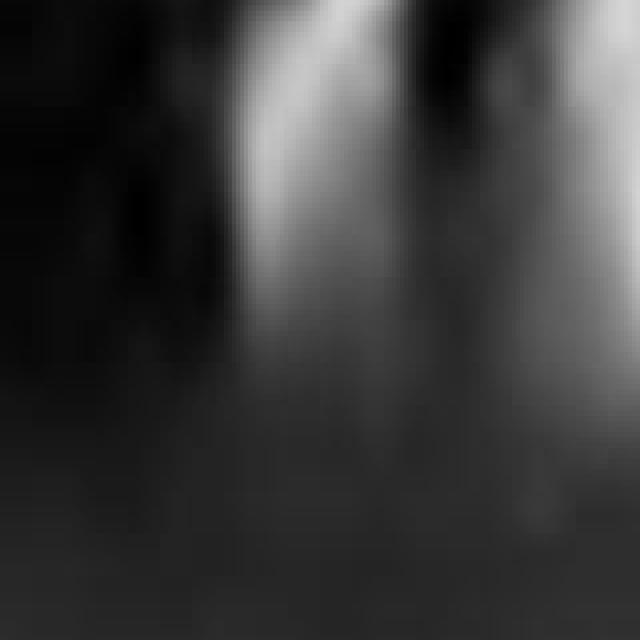person: (205, 1, 413, 438), (521, 1, 640, 454)
